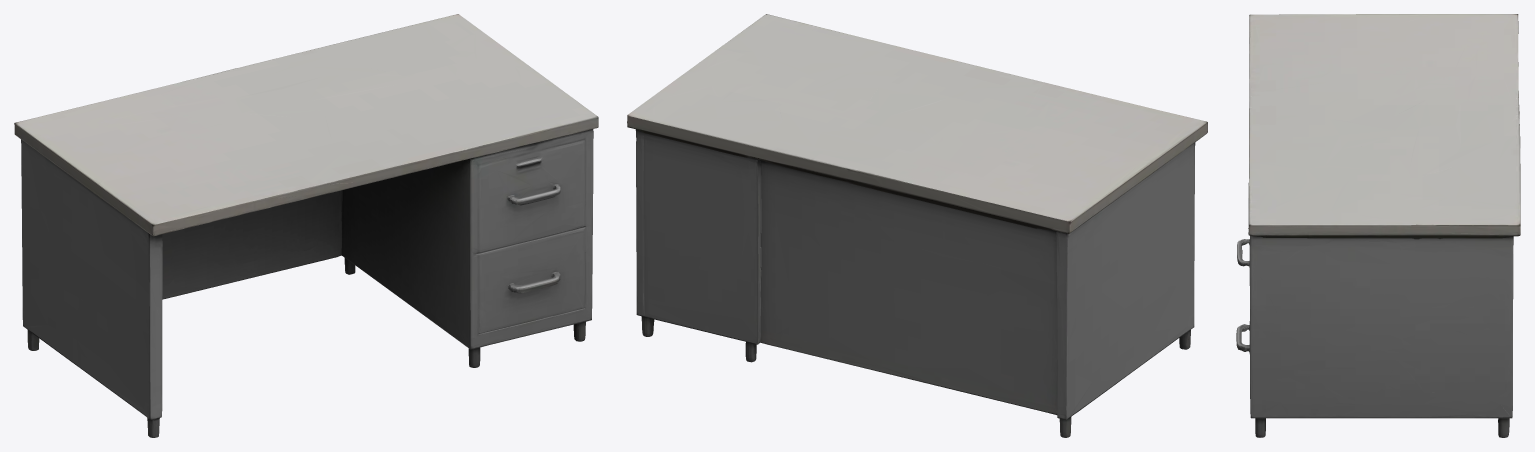
The model's file is desk_office_gray.glb.
3 renders of one model, left to right at view 1: azimuth 30°, elevation 25°; view 2: azimuth 150°, elevation 25°; view 3: azimuth 270°, elevation 25°, orthographic. The views are drawn at different scales.
Visible parts, largest first — view 1: geometry_0; view 2: geometry_0; view 3: geometry_0.
Part boxes in pixels (x1,y1,x2,y2): geometry_0: [14, 14, 598, 437]; geometry_0: [627, 14, 1207, 437]; geometry_0: [1236, 14, 1520, 437].
Bounding box in the file's own units: 1 × 0.4846 × 0.5707.
Materials: 1 (1 with a texture image).
